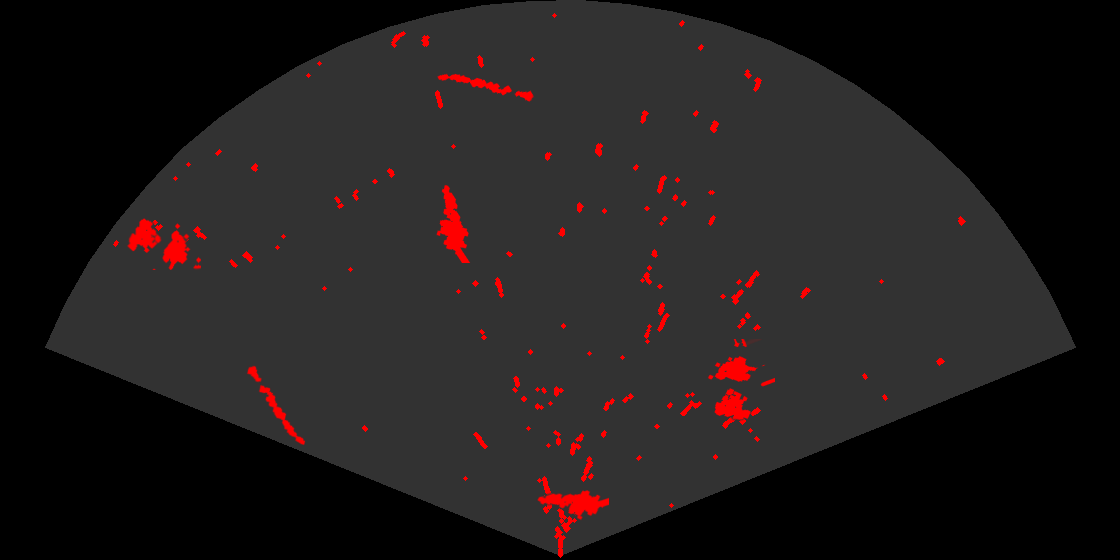cage: (706, 339, 775, 422), (125, 217, 201, 270)
chain: (245, 364, 307, 447), (436, 72, 536, 103)
frogman: (435, 183, 472, 263), (536, 489, 609, 522)
